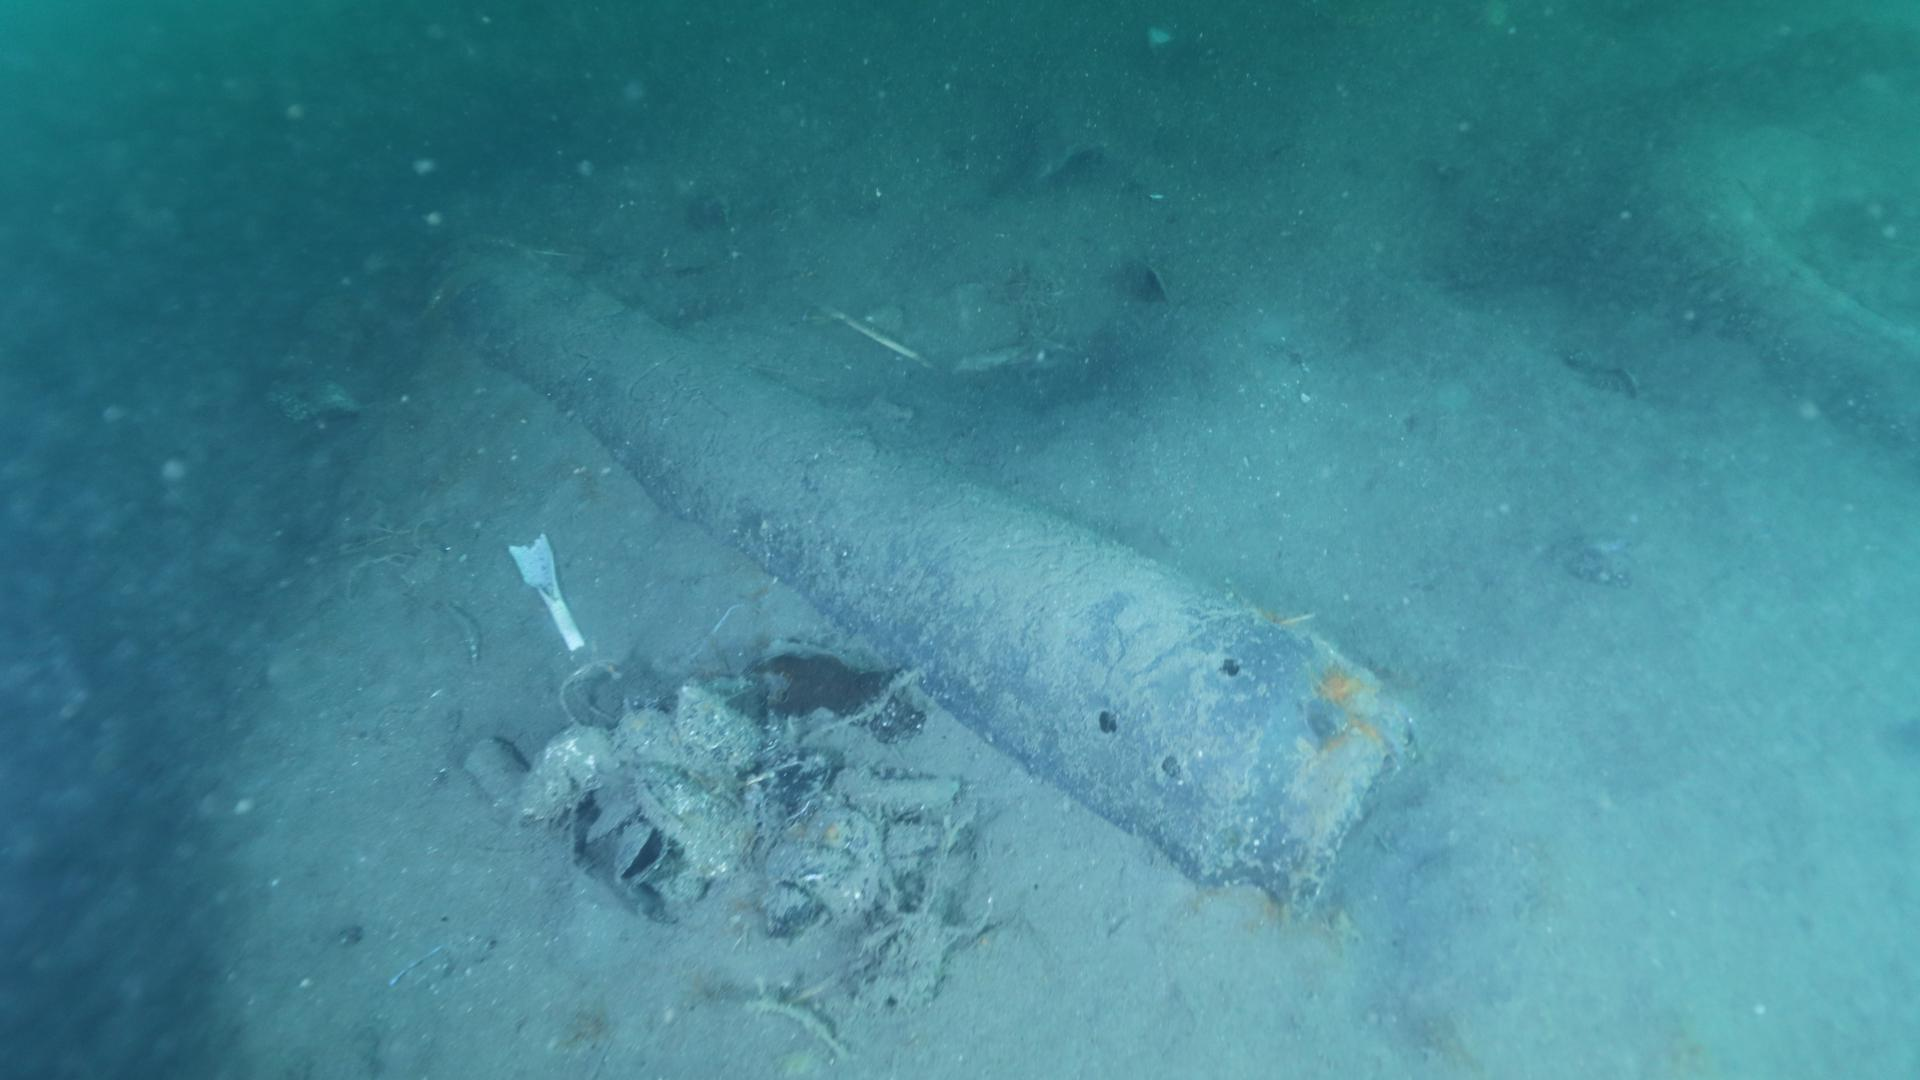eel fish trap: (435, 243, 1414, 919)
